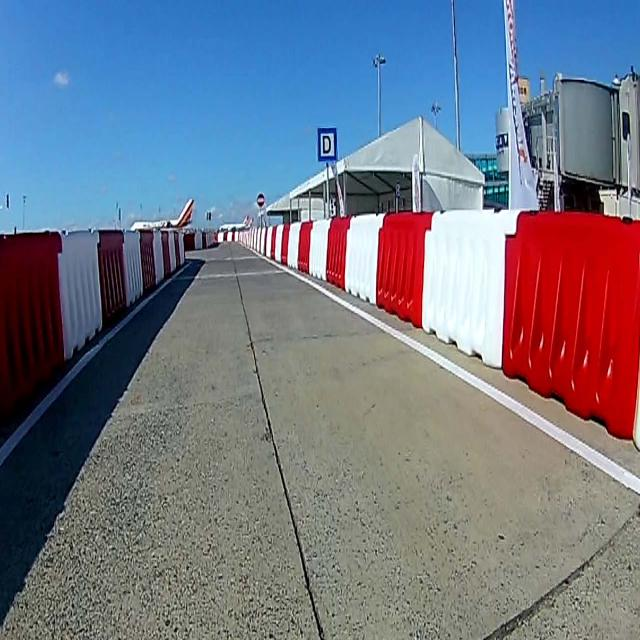durak: (316, 126, 338, 162)
girisyok: (256, 192, 266, 208)
